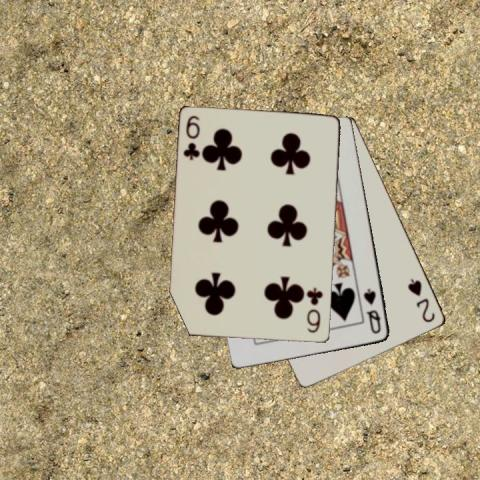2s: (405, 275, 437, 324)
6c: (304, 284, 325, 334), (181, 113, 201, 161)
Qs: (360, 286, 382, 335)
